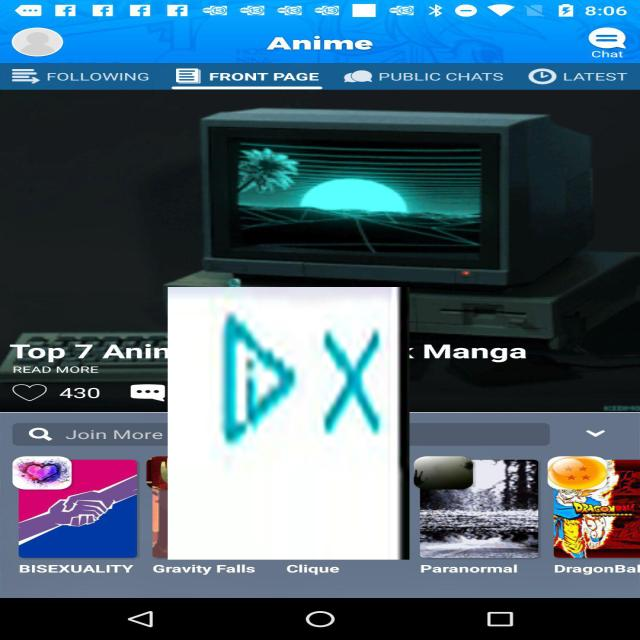sneaking: (168, 287, 410, 560)
